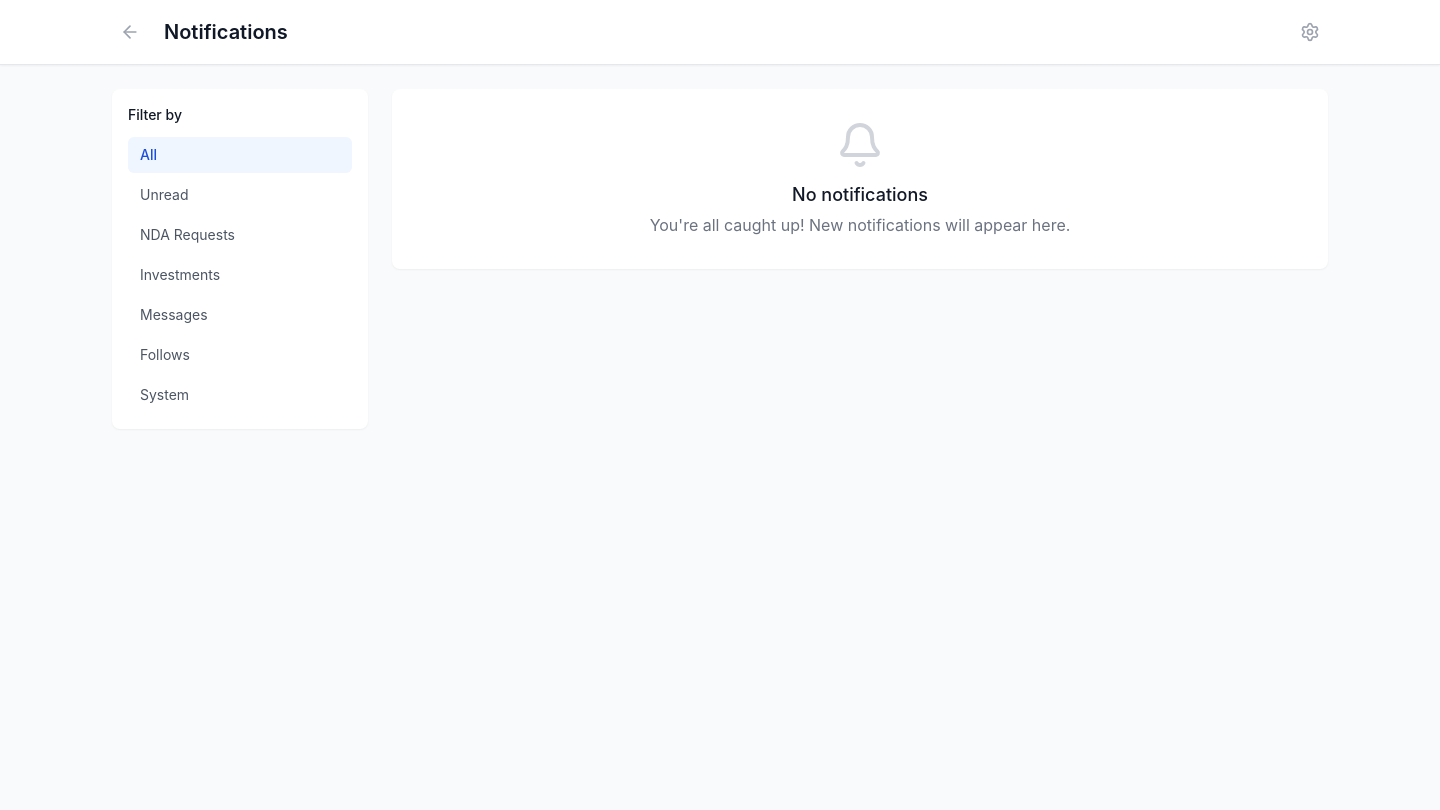
NotificationCenter › toggles preferences panel when settings button is clicked
Click the button titled "Notification preferences" at (1310, 32), box [1292,14,1328,50]
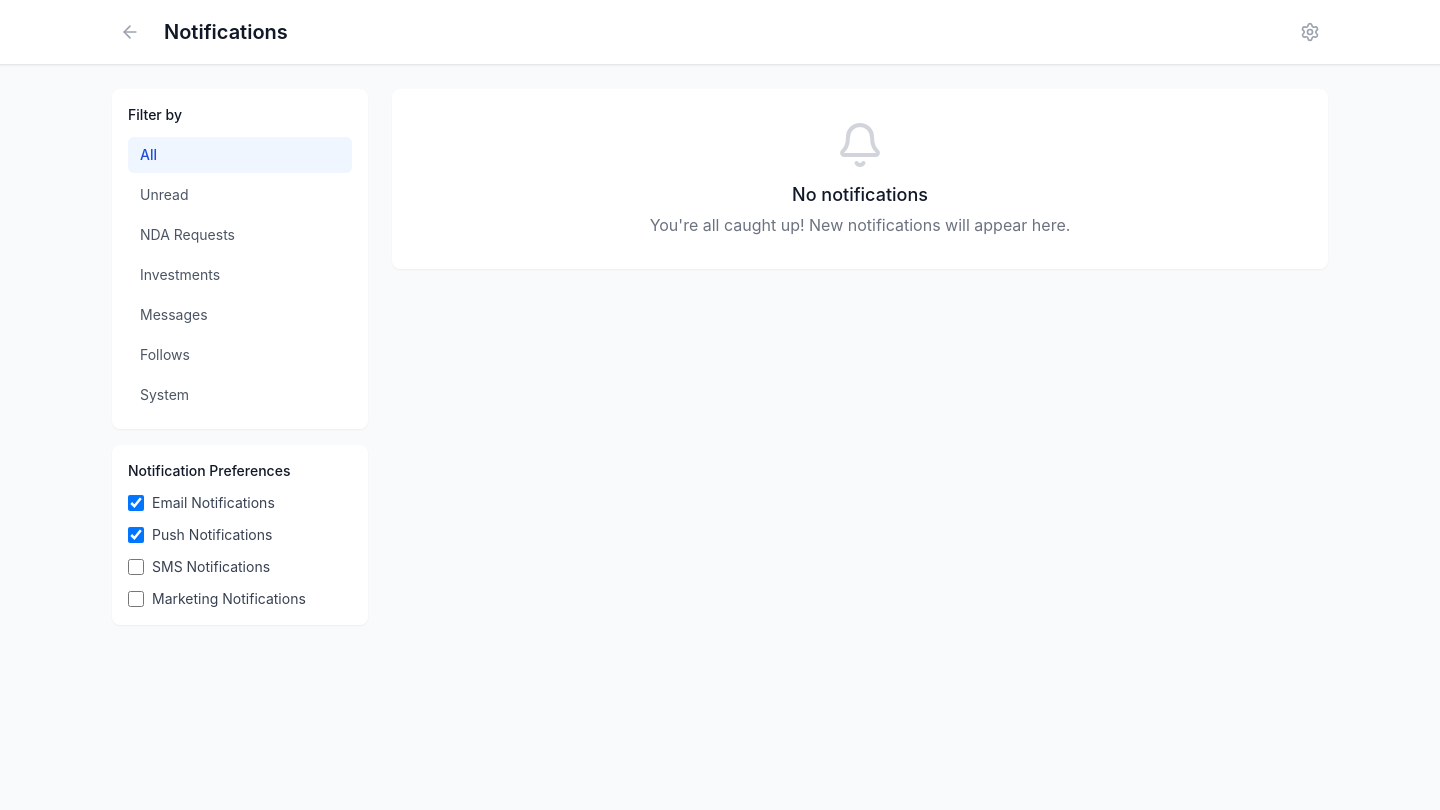
Result: the heading "Notification Preferences" is shown at [128,462,290,479]
